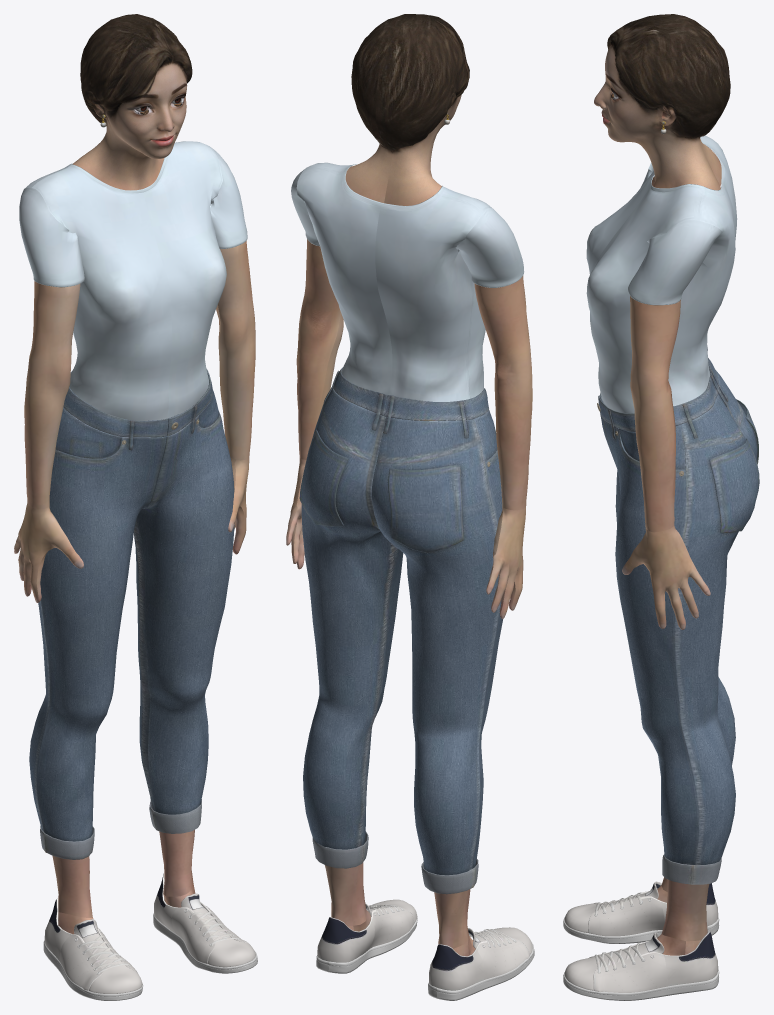
File: posed.glb
3 views of the same model, side by side, from view 1: azimuth 30°, elevation 25°; view 2: azimuth 150°, elevation 25°; view 3: azimuth 270°, elevation 25° (orthographic).
Visible parts, largest first — view 1: outfit, AvatarBody, AvatarHead; view 2: outfit, AvatarBody, AvatarHead; view 3: outfit, AvatarHead, AvatarBody.
Part boxes in pixels (<box>): outfit: <box>19,141,257,1000</box>; AvatarBody: <box>14,241,255,934</box>; AvatarHead: <box>72,14,192,190</box>; outfit: <box>291,162,534,1000</box>; AvatarBody: <box>286,239,532,956</box>; AvatarHead: <box>345,14,469,205</box>; outfit: <box>563,135,759,1000</box>; AvatarHead: <box>594,14,730,190</box>; AvatarBody: <box>622,296,710,955</box>.
Size of what is drawn, in the model's own units: 0.4415 by 1.74 by 0.3291.
Materials: 9 (8 with a texture image).
